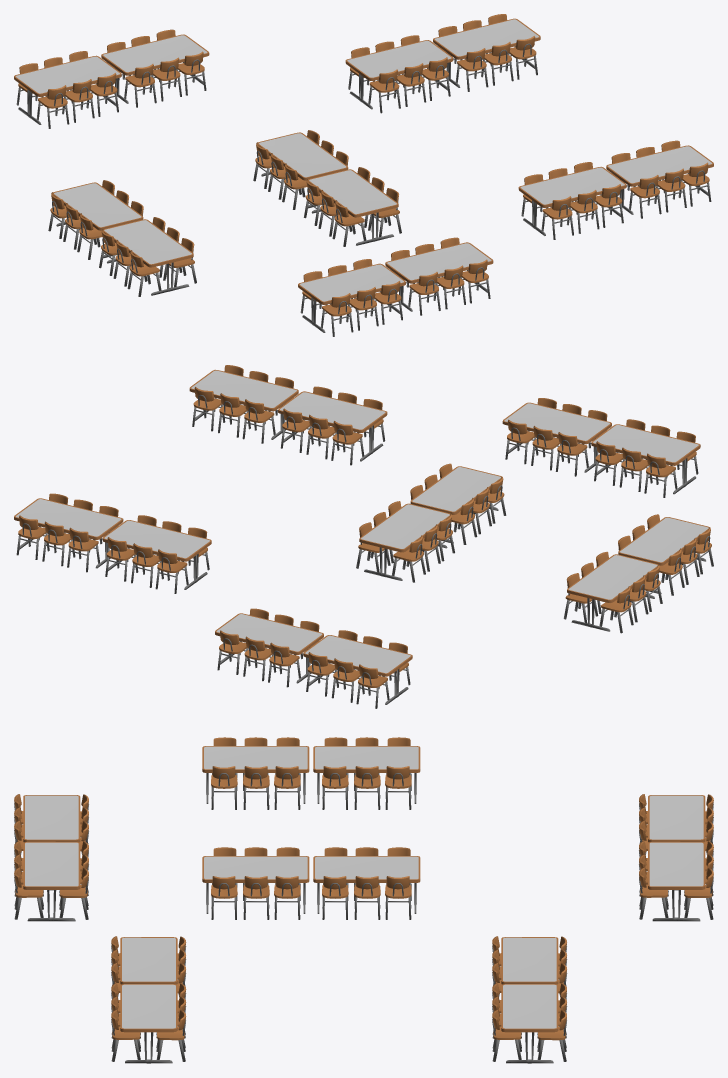
File: d-roomcomp-t-mensa-in.glb
3 views of the same model, one above another, from view 1: azimuth 30°, elevation 25°; view 2: azimuth 150°, elevation 25°; view 3: azimuth 270°, elevation 25° (orthographic). The views are drawn at different scales.
Parts seen in each view (by area): view 1: beegTable.037, beegTable.040, beegTable.034, beegTable.030, beegTable.045, beegTable.043, beegTable.041, beegTable.039, beegTable.031, beegTable.035, beegTable.042, beegTable.044; view 2: beegTable.030, beegTable.034, beegTable.040, beegTable.037, beegTable.042, beegTable.044, beegTable.031, beegTable.039, beegTable.041, beegTable.035, beegTable.043, beegTable.045; view 3: beegTable.044, beegTable.045, beegTable.042, beegTable.043, beegTable.035, beegTable.039, beegTable.041, beegTable.031, beegTable.040, beegTable.030, beegTable.037, beegTable.034.
Part boxes in pixels (box(x1,y1,x2,y2)): beegTable.037: box(298, 259, 405, 336); beegTable.040: box(518, 162, 626, 239); beegTable.034: box(14, 51, 121, 128); beegTable.030: box(345, 35, 453, 113); beegTable.045: box(99, 217, 196, 296); beegTable.043: box(303, 167, 401, 246); beegTable.041: box(606, 140, 713, 218); beegTable.039: box(385, 237, 493, 315); beegTable.031: box(433, 14, 540, 91); beegTable.035: box(101, 29, 209, 107); beegTable.042: box(253, 130, 348, 209); beegTable.044: box(48, 180, 143, 259); beegTable.030: box(102, 515, 211, 593); beegTable.034: box(303, 630, 412, 708); beegTable.040: box(278, 386, 387, 465); beegTable.037: box(591, 419, 700, 497); beegTable.042: box(356, 501, 454, 582); beegTable.044: box(563, 551, 662, 633); beegTable.031: box(14, 493, 123, 572); beegTable.039: box(502, 398, 611, 476); beegTable.041: box(189, 365, 298, 443); beegTable.035: box(215, 608, 323, 687); beegTable.043: box(410, 463, 506, 544); beegTable.045: box(618, 514, 713, 595); beegTable.044: box(313, 737, 420, 809); beegTable.045: box(202, 737, 309, 809); beegTable.042: box(313, 847, 420, 919); beegTable.043: box(202, 847, 309, 919); beegTable.035: box(639, 841, 713, 921); beegTable.039: box(14, 841, 88, 921); beegTable.041: box(111, 983, 186, 1063); beegTable.031: box(492, 983, 567, 1063); beegTable.040: box(111, 936, 186, 996); beegTable.030: box(492, 936, 567, 996); beegTable.037: box(14, 794, 88, 854); beegTable.034: box(639, 794, 713, 854).
Bounding box in the file's own units: 15.46 × 1.07 × 15.92.
Materials: 1 (1 with a texture image).
